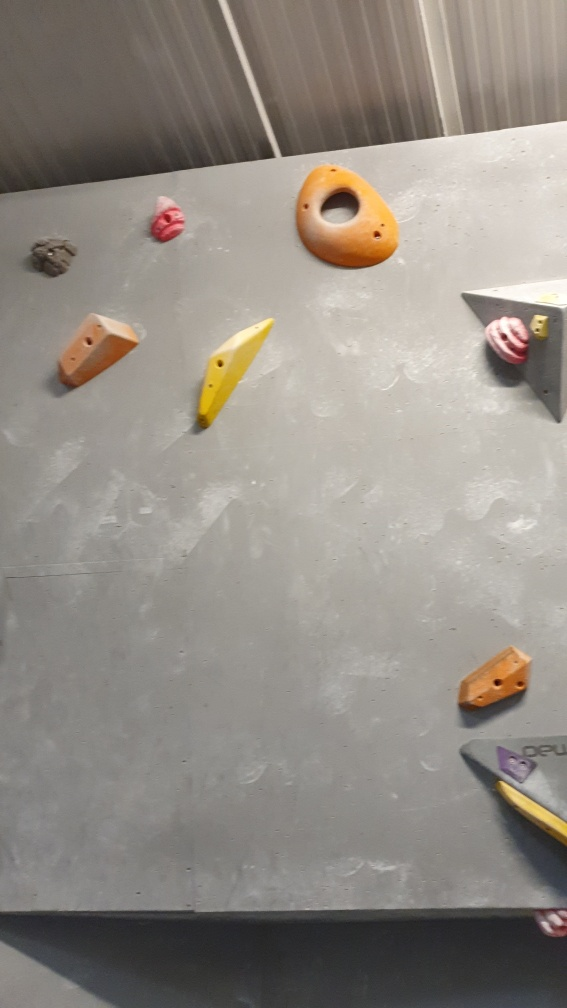Jug: (483, 311, 530, 373), (21, 230, 78, 281), (148, 194, 191, 243)
Pinch: (194, 313, 278, 432), (54, 309, 139, 397), (454, 645, 535, 716)
Pocket: (292, 162, 401, 269)
